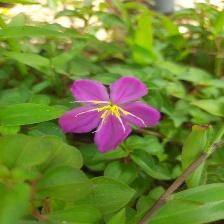malabar melastome: (59, 77, 162, 155)
